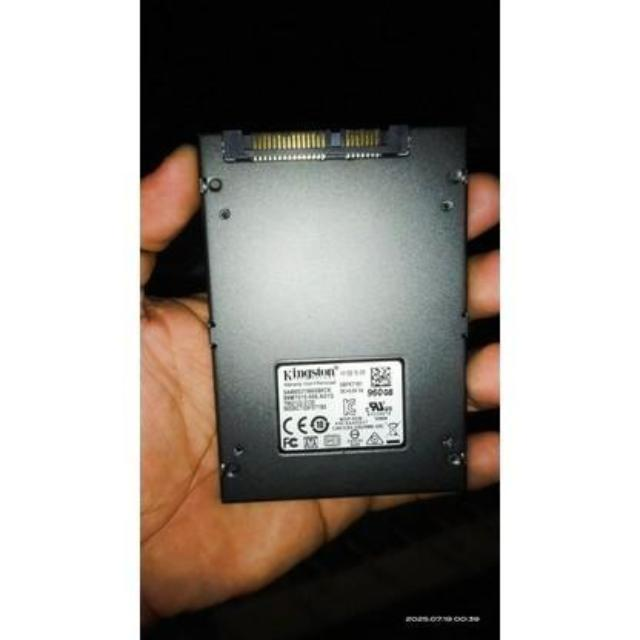DISK: (196, 121, 478, 508)
